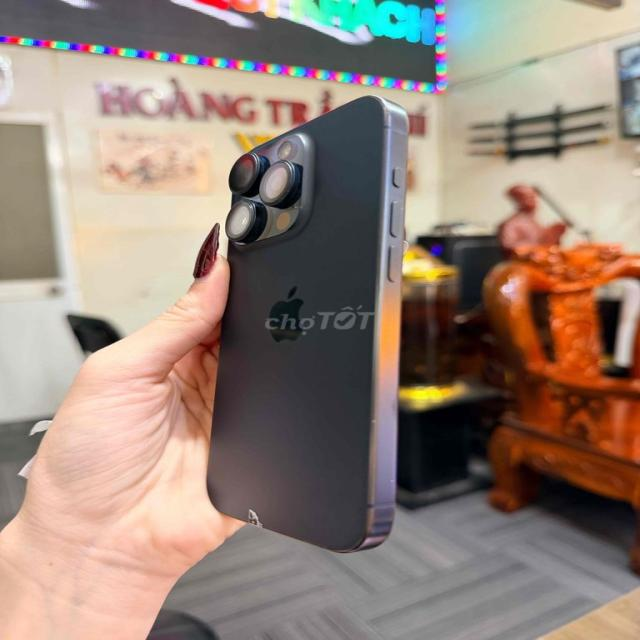scratch: (364, 409, 401, 490)
